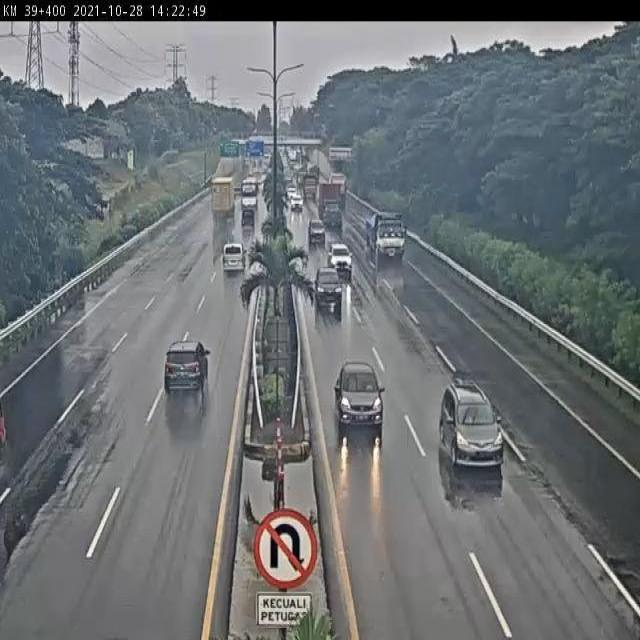car: (441, 384, 507, 469), (334, 360, 389, 433), (164, 341, 212, 396)
truck-l-: (366, 210, 410, 270)
